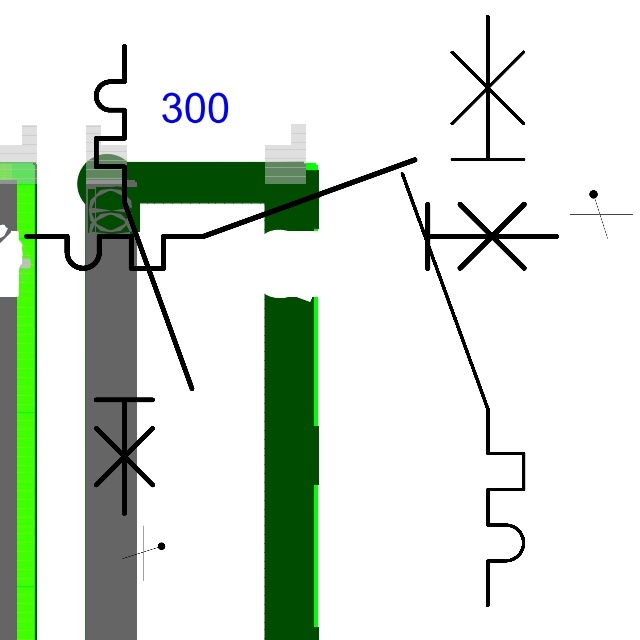interruptor_termomagnetico: (387, 1, 539, 621), (13, 146, 570, 282), (84, 34, 204, 525)
